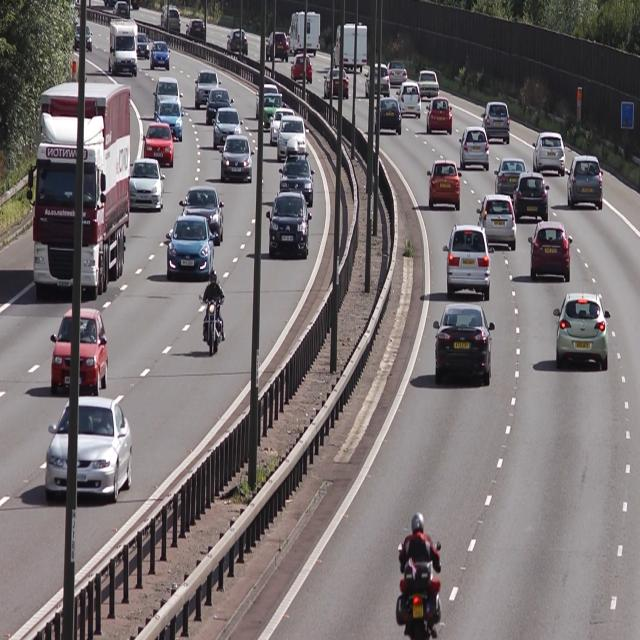Car: (26, 85, 131, 296), (45, 397, 132, 512), (432, 303, 497, 388), (49, 306, 106, 396), (552, 290, 610, 372), (442, 222, 494, 301), (164, 214, 212, 284), (266, 188, 312, 260), (526, 222, 572, 284), (179, 188, 224, 246), (475, 194, 517, 254), (123, 155, 165, 213), (276, 148, 314, 208), (424, 160, 462, 216), (511, 172, 551, 224), (565, 156, 604, 208), (218, 135, 255, 183), (274, 116, 310, 162), (530, 131, 566, 177), (459, 126, 492, 172), (141, 122, 173, 169), (153, 99, 185, 145), (424, 93, 455, 139), (480, 100, 510, 147), (211, 106, 243, 150), (372, 95, 402, 136), (192, 67, 216, 113), (396, 80, 422, 120), (416, 68, 440, 102)
